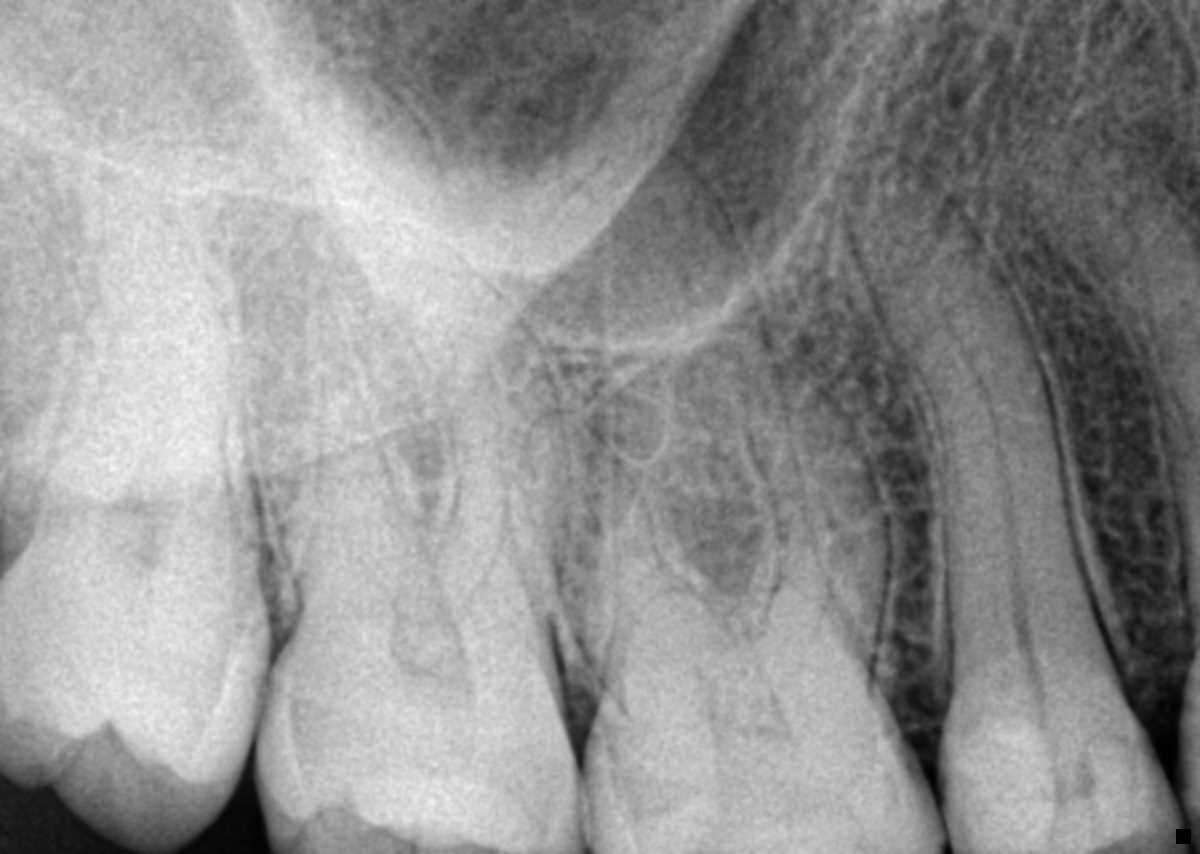Distal Canal: (626, 605, 714, 684)
Distal Root: (247, 244, 415, 592), (527, 413, 691, 667)
Main Canal: (944, 312, 1041, 675)
Main Root: (841, 149, 1108, 685), (31, 177, 266, 577), (1068, 137, 1200, 652)
Mesial Canal: (451, 434, 508, 614)
Mesial Root: (385, 229, 568, 624), (746, 368, 886, 647)
Palatal Root: (295, 73, 542, 606), (601, 146, 845, 662)
